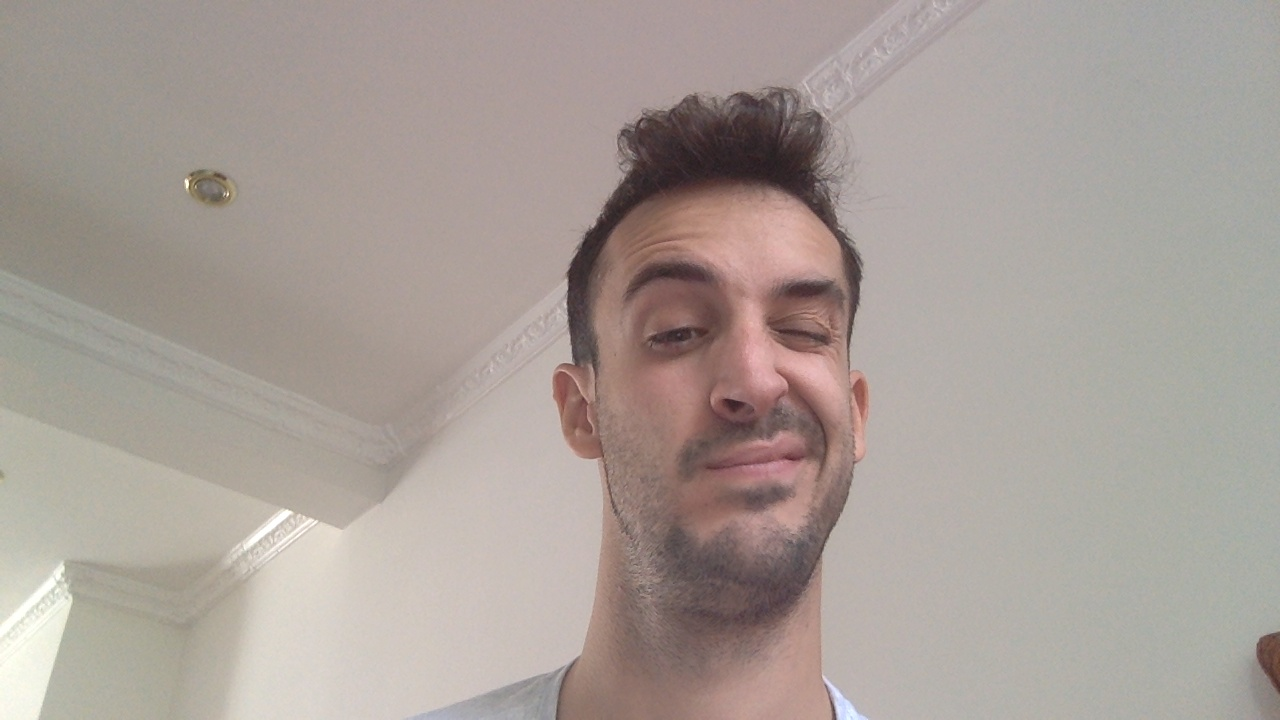wink: (760, 300, 848, 363)
